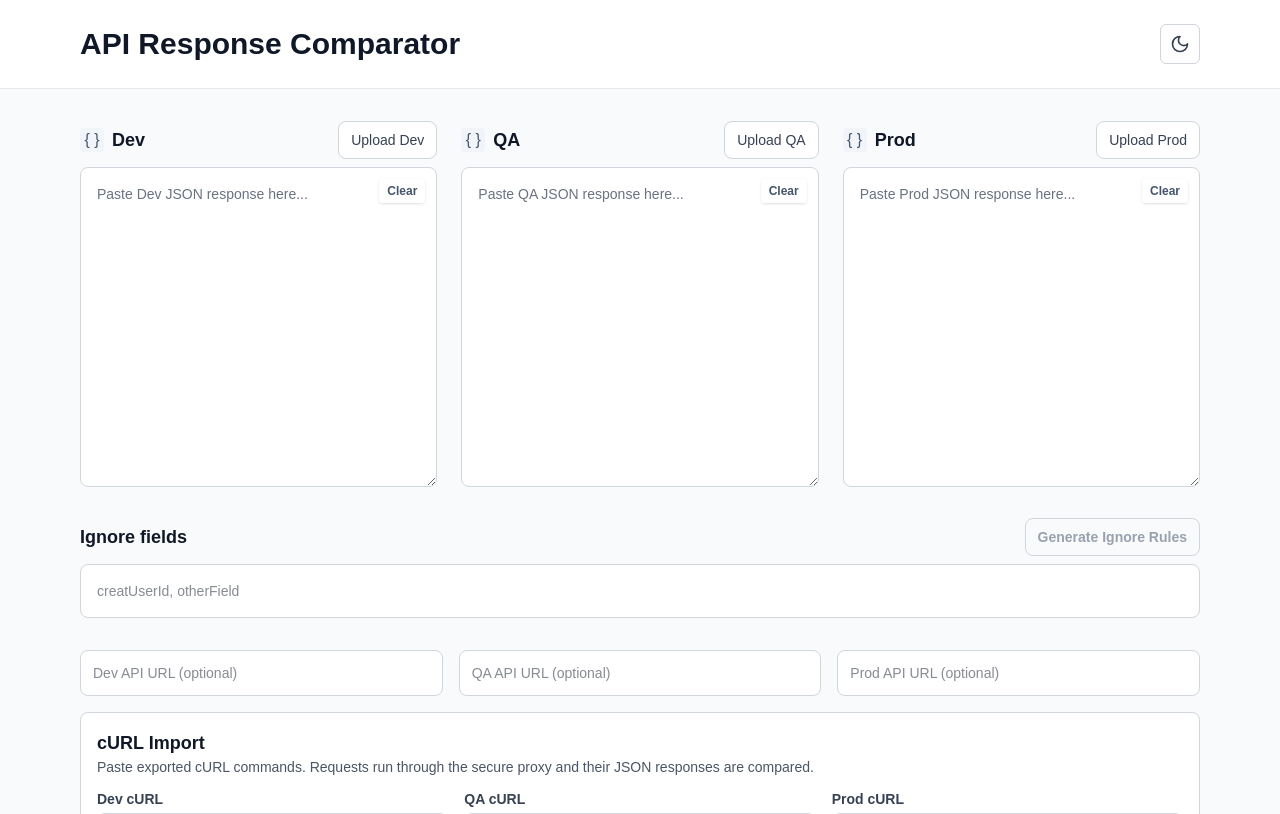
Test: Home › falls back to HTTP status text when proxy errors are not JSON
The image size is (1280, 814).
Type "https://dev.test" into the field labelled "Dev API URL" at (261, 673), box [80,650,443,696]
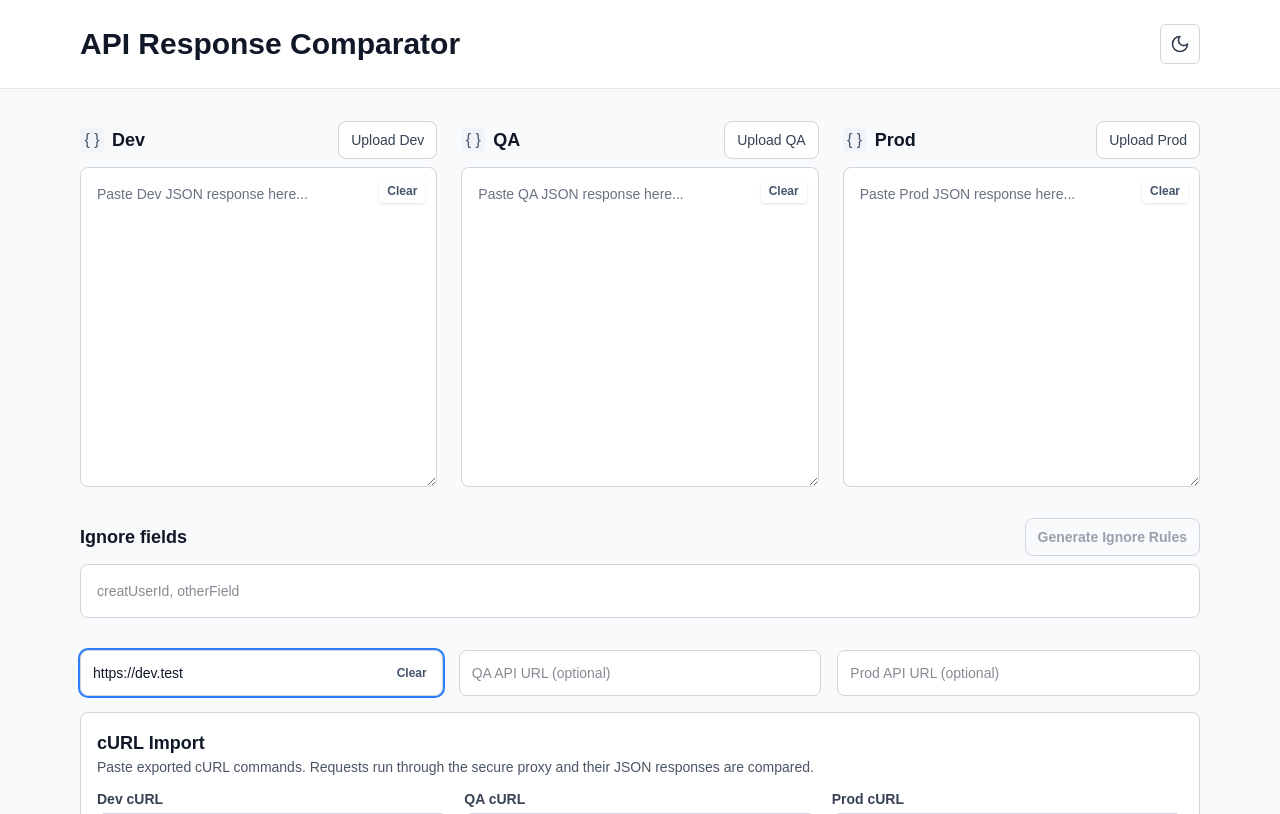
Type "https://qa.test" into the field labelled "QA API URL" at (640, 673), box [459,650,821,696]
(page scrolled)
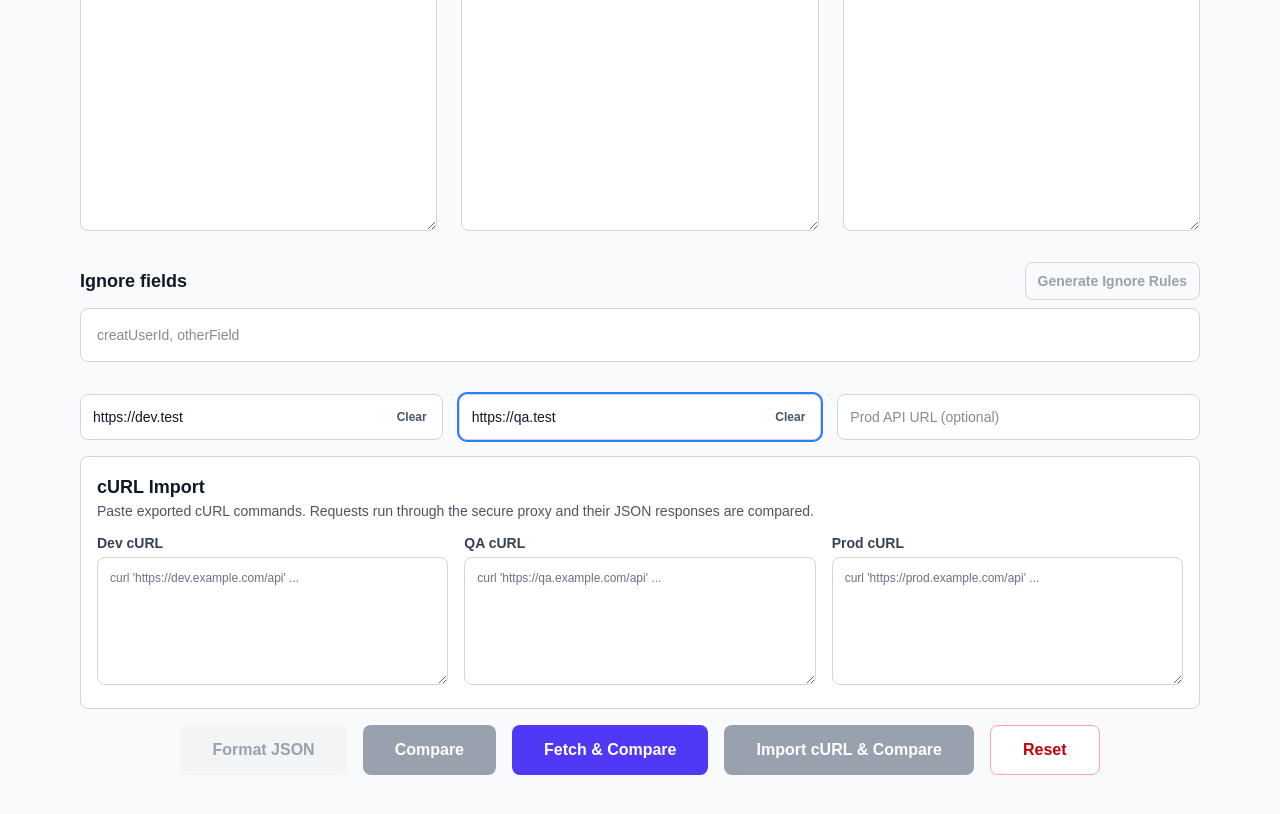
Click the button "Fetch & Compare" at (610, 750), box [512,725,708,775]
(page scrolled)
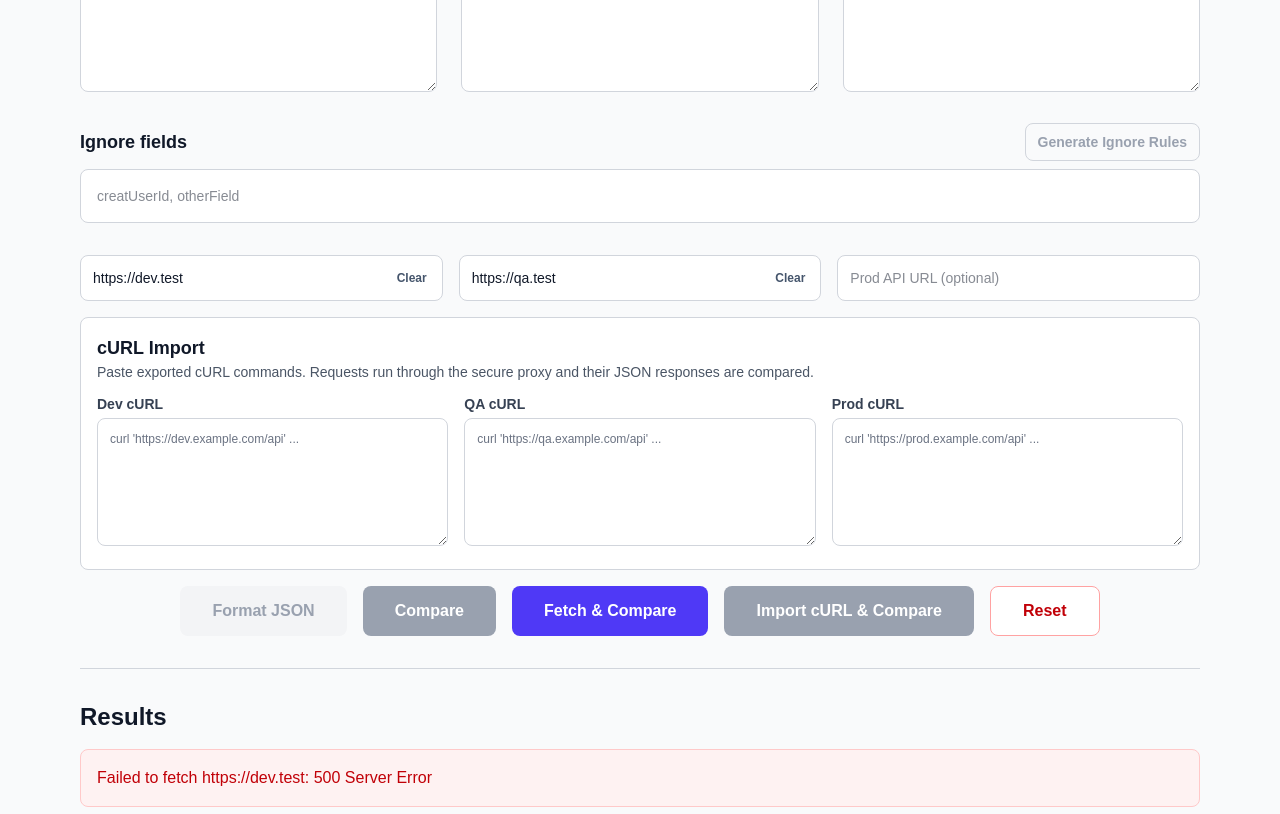
Now the text "Failed to fetch https://dev.test: 500 Server Error" is shown, box [80,749,1200,807]
